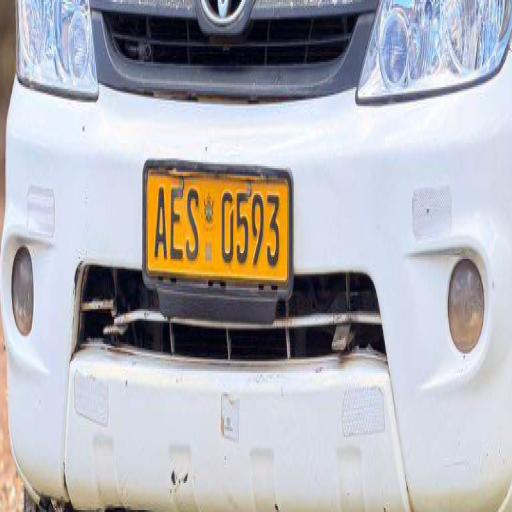number-plates: (145, 170, 285, 281)
